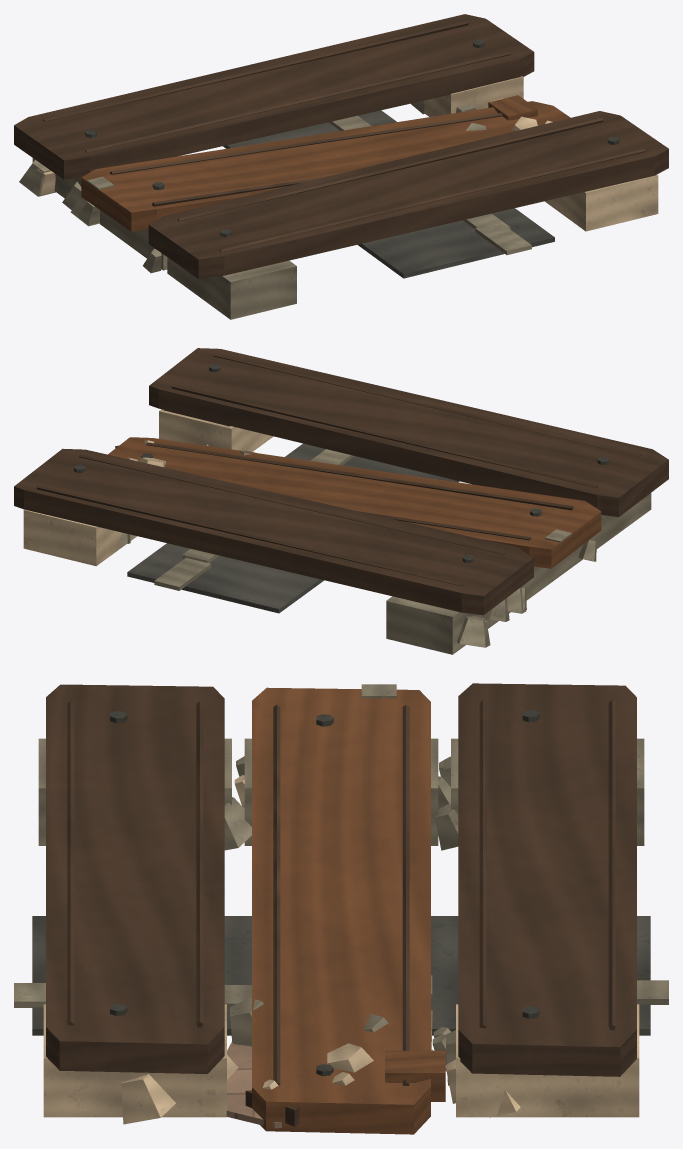
The model's file is suedweg_bohlen.glb.
3 renders of one model, top to bottom at view 1: azimuth 30°, elevation 25°; view 2: azimuth 150°, elevation 25°; view 3: azimuth 270°, elevation 25°, orthographic. The views are drawn at different scales.
Visible parts, largest first — view 1: Bohle_Rechts, Bohle_Links, Suedweg_Ausgespueltes_Bett, Bohle_Abgesackt; view 2: Bohle_Links, Bohle_Rechts, Suedweg_Ausgespueltes_Bett, Bohle_Abgesackt; view 3: Bohle_Abgesackt, Bohle_Links, Bohle_Rechts, Suedweg_Ausgespueltes_Bett.
Boxes of the visible parts, left/top/right/bottom form: Bohle_Rechts: left=148, top=111, right=668, bottom=278; Bohle_Links: left=14, top=14, right=534, bottom=179; Suedweg_Ausgespueltes_Bett: left=19, top=76, right=658, bottom=319; Bohle_Abgesackt: left=81, top=101, right=570, bottom=231; Bohle_Links: left=14, top=448, right=533, bottom=615; Bohle_Rechts: left=149, top=348, right=668, bottom=517; Suedweg_Ausgespueltes_Bett: left=23, top=409, right=651, bottom=654; Bohle_Abgesackt: left=108, top=437, right=601, bottom=568; Bohle_Abgesackt: left=252, top=684, right=430, bottom=1134; Bohle_Links: left=458, top=683, right=636, bottom=1076; Bohle_Rechts: left=46, top=684, right=224, bottom=1073; Suedweg_Ausgespueltes_Bett: left=14, top=738, right=668, bottom=1128.
Bounding box in the file's own units: 1.39 × 0.19 × 1.08.
1 material, 1 textured.
